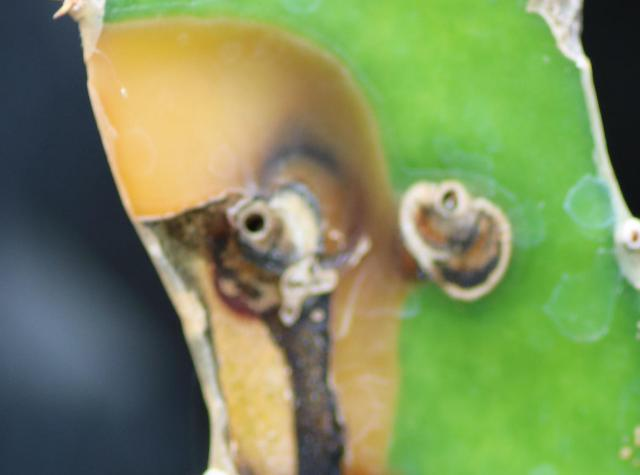stemcanker: (74, 8, 415, 475)
